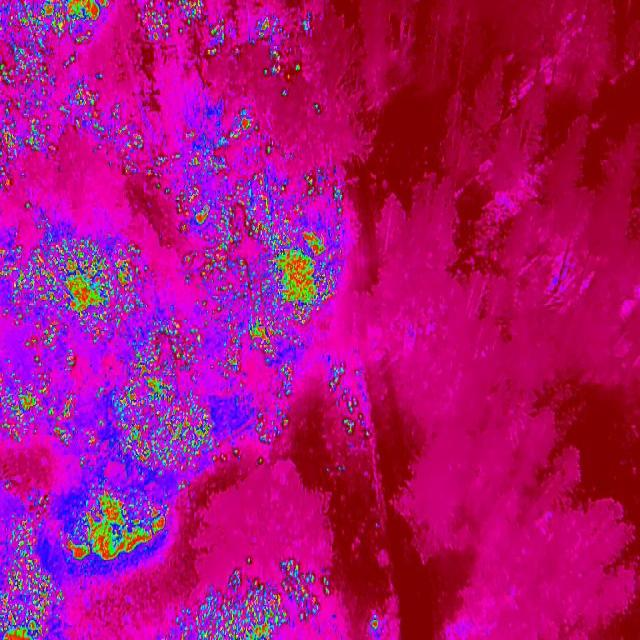fire: (241, 166, 351, 353), (106, 316, 217, 473), (147, 148, 240, 316), (0, 234, 147, 338), (176, 556, 330, 640), (62, 488, 170, 567), (58, 84, 146, 178), (0, 368, 81, 450), (128, 0, 231, 56), (252, 356, 312, 446), (0, 559, 66, 639), (0, 0, 108, 44), (326, 356, 380, 442), (0, 89, 49, 162), (248, 12, 300, 78), (189, 322, 246, 382), (0, 41, 53, 87), (18, 336, 78, 370), (8, 516, 40, 558), (230, 109, 256, 142), (81, 419, 104, 451), (230, 449, 268, 467), (58, 50, 78, 70), (366, 615, 384, 637), (0, 161, 12, 194), (309, 100, 330, 118), (35, 492, 52, 514), (182, 126, 197, 143), (300, 16, 312, 35), (23, 198, 34, 214), (278, 88, 290, 100), (264, 144, 274, 158)
